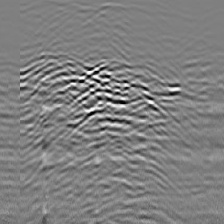cavities: (64, 59, 162, 136)
